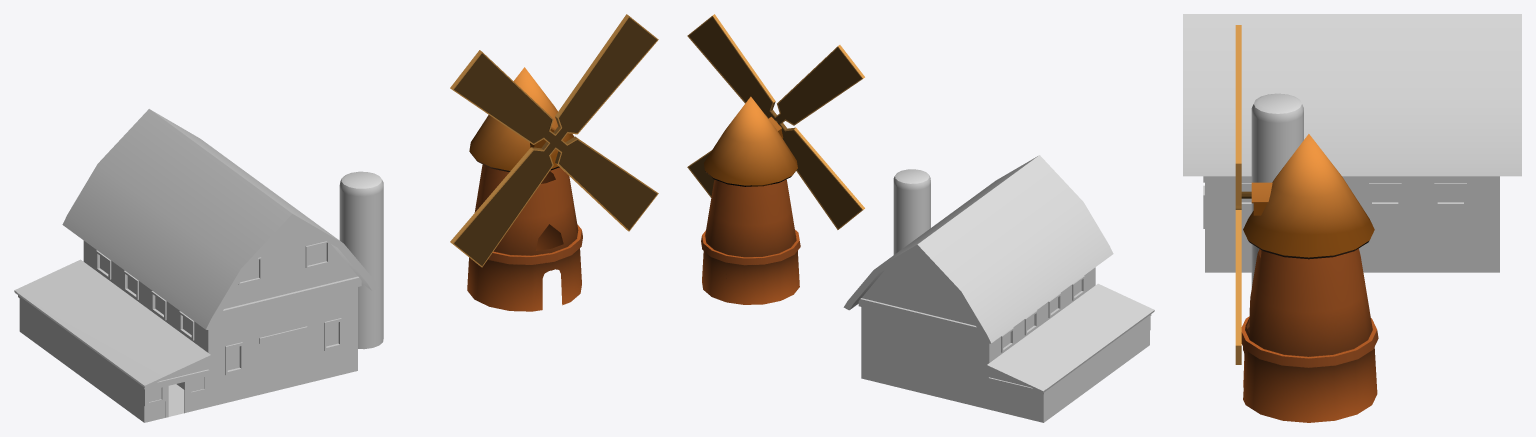
The model's file is Granja_Molino_Silo.fbx.
3 renders of one model, left to right at view 1: azimuth 30°, elevation 25°; view 2: azimuth 150°, elevation 25°; view 3: azimuth 270°, elevation 25°, orthographic. The views are drawn at different scales.
Visible parts, largest first — view 1: Cube, Plane, Cube.001, Cylinder.001, Cylinder; view 2: Cube, Cylinder.001, Cube.001, Plane, Cylinder; view 3: Cube, Cylinder.001, Cylinder, Plane.
Boxes of the visible parts, box(x1,y1,x2,y2) form: Cube: box(62, 109, 378, 407); Plane: box(450, 14, 658, 267); Cube.001: box(14, 259, 210, 422); Cylinder.001: box(467, 67, 582, 311); Cylinder: box(339, 171, 383, 349); Cube: box(843, 155, 1113, 409); Cylinder.001: box(701, 96, 800, 304); Cube.001: box(987, 283, 1154, 422); Plane: box(687, 14, 864, 229); Cylinder: box(893, 169, 930, 254); Cube: box(1183, 14, 1521, 272); Cylinder.001: box(1241, 134, 1378, 422); Cylinder: box(1251, 93, 1303, 287); Plane: box(1235, 25, 1241, 364).
Bounding box in the file's own units: 5818 × 2898 × 2726.
7 materials, 1 textured.
